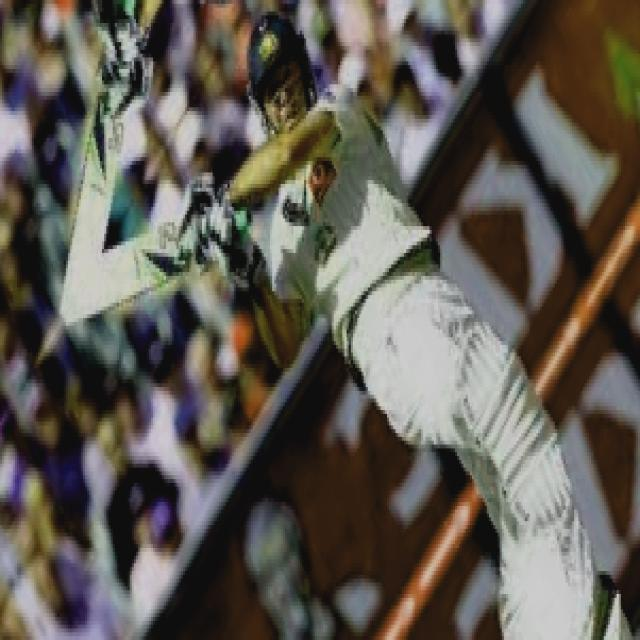toe: (66, 258, 96, 329)
